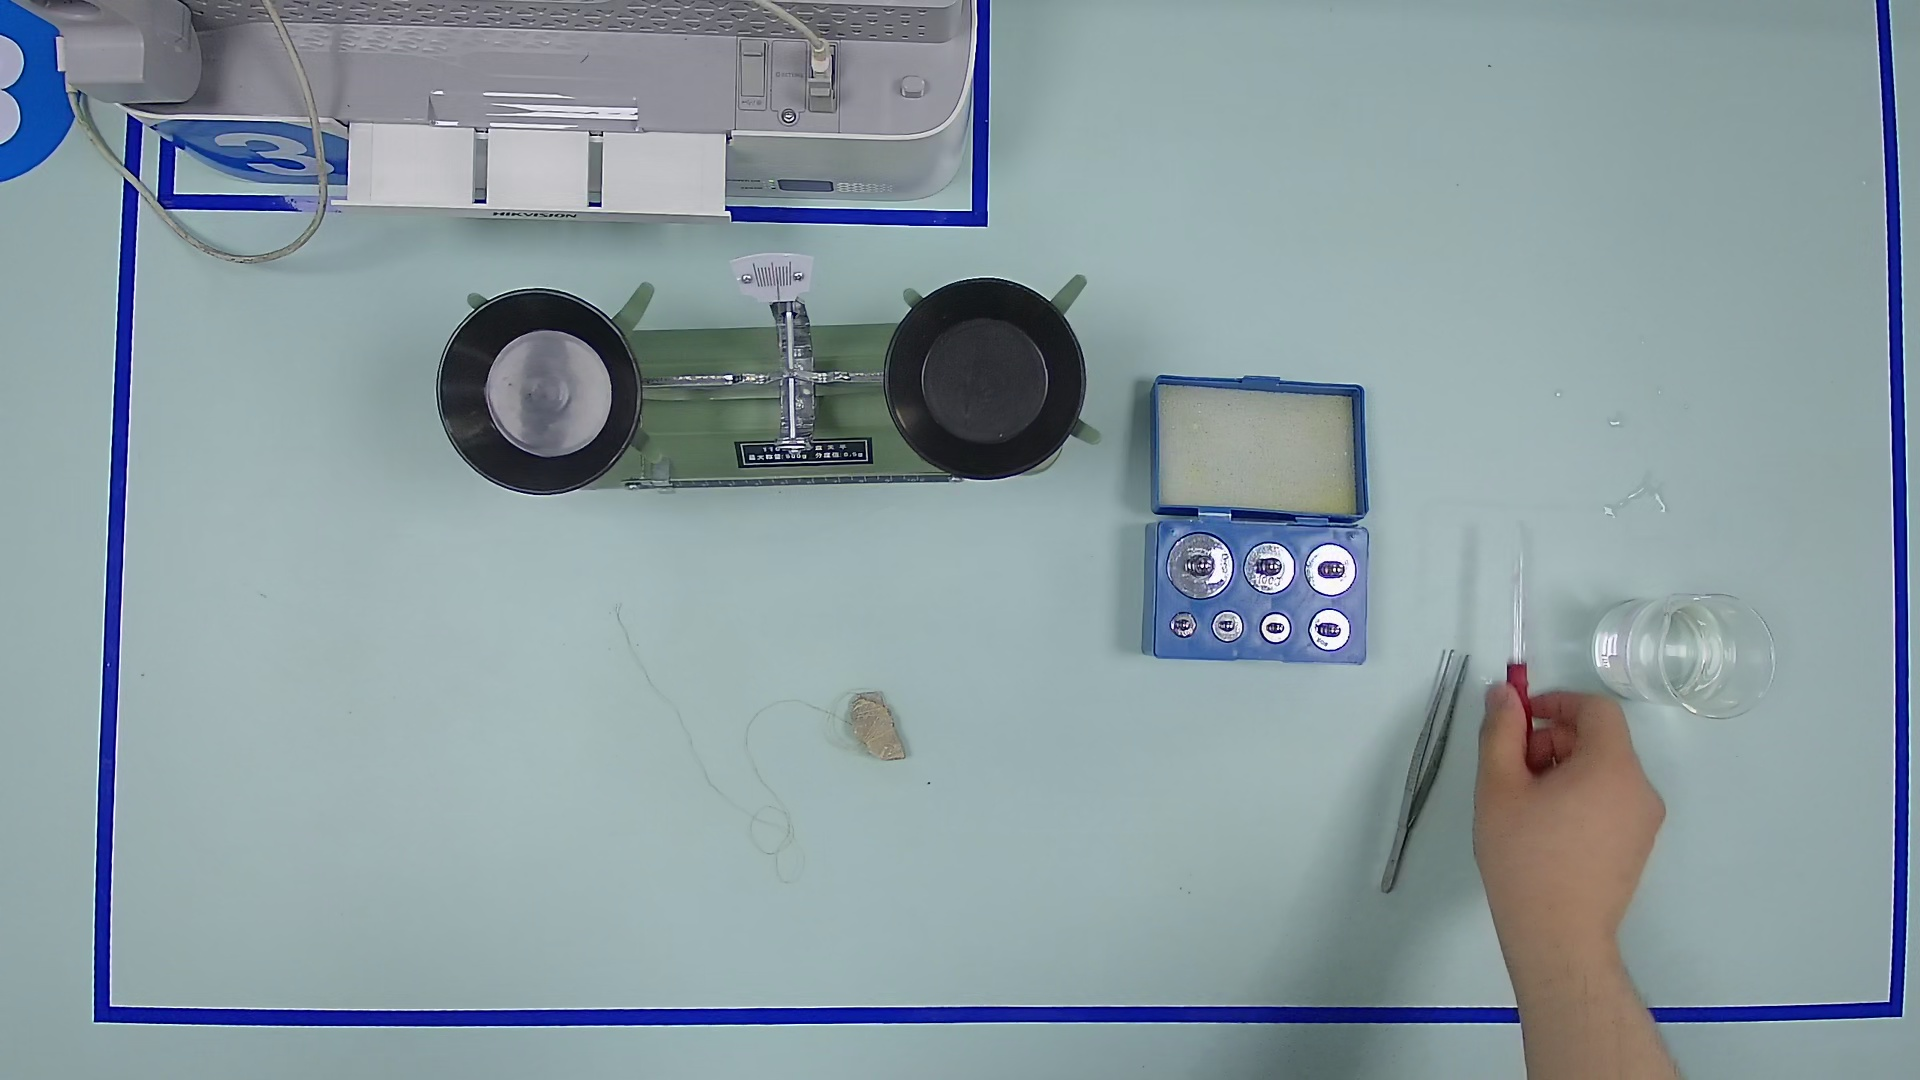bei: (1594, 578, 1774, 733)
diguan: (1484, 502, 1576, 752)
diguantou: (1506, 658, 1539, 740)
fama: (1164, 530, 1236, 601), (1303, 542, 1360, 597), (1242, 541, 1298, 595), (1305, 607, 1352, 651), (1211, 607, 1246, 646), (1258, 611, 1292, 644), (1168, 609, 1200, 642)
gan: (615, 447, 956, 517)
hand: (1455, 666, 1684, 928)
he: (1112, 496, 1407, 713)
niezi: (1360, 632, 1486, 899)
pointer: (733, 249, 814, 299)
shi: (833, 684, 922, 771)
tuo: (862, 253, 1110, 509), (419, 272, 662, 516)
you: (646, 454, 679, 501)
